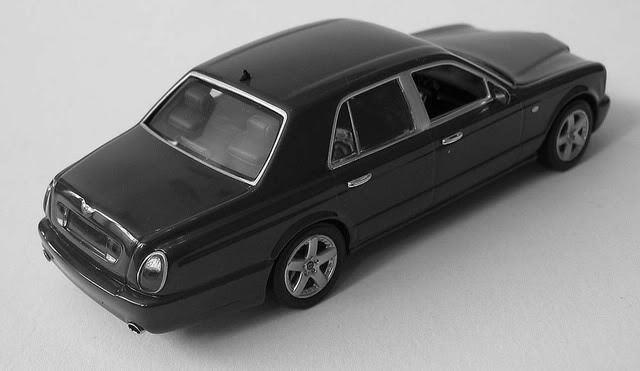car: (35, 18, 614, 341)
